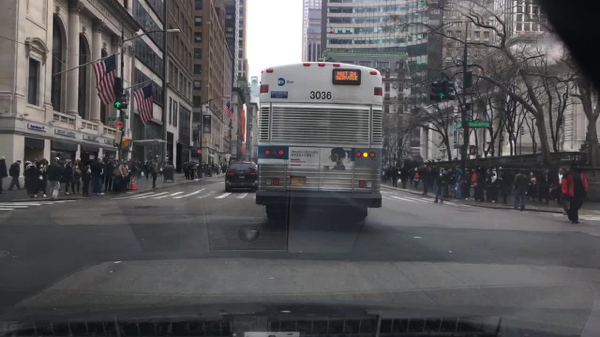bus: (257, 59, 387, 221)
car: (223, 160, 258, 194)
person: (560, 159, 587, 225), (30, 158, 48, 197), (48, 157, 64, 199), (513, 167, 527, 212), (91, 158, 105, 198), (432, 167, 447, 204), (79, 157, 91, 198), (25, 159, 38, 195), (474, 167, 487, 202), (62, 158, 74, 195), (485, 168, 497, 204), (544, 167, 556, 202), (9, 160, 22, 190), (149, 155, 160, 190), (118, 160, 130, 192), (496, 167, 506, 204), (420, 162, 430, 196), (0, 155, 8, 194), (105, 158, 113, 192), (528, 171, 536, 204), (73, 160, 80, 194), (398, 166, 408, 188), (389, 165, 398, 187), (452, 164, 458, 197), (555, 165, 565, 184), (464, 167, 470, 198), (143, 162, 153, 180), (456, 166, 461, 200), (182, 162, 191, 179), (447, 167, 452, 197), (412, 169, 419, 190), (190, 161, 196, 178), (195, 164, 202, 176), (200, 163, 206, 175), (213, 162, 218, 174), (206, 165, 212, 175), (409, 169, 413, 183), (440, 167, 446, 176), (218, 163, 222, 175), (224, 164, 228, 174)
traffic light: (445, 81, 455, 100), (430, 82, 438, 101), (113, 91, 121, 109), (438, 80, 444, 99), (121, 91, 128, 107), (467, 145, 476, 155)
traffic sign: (466, 121, 491, 127), (465, 72, 473, 88), (452, 123, 463, 130), (114, 121, 123, 128)
